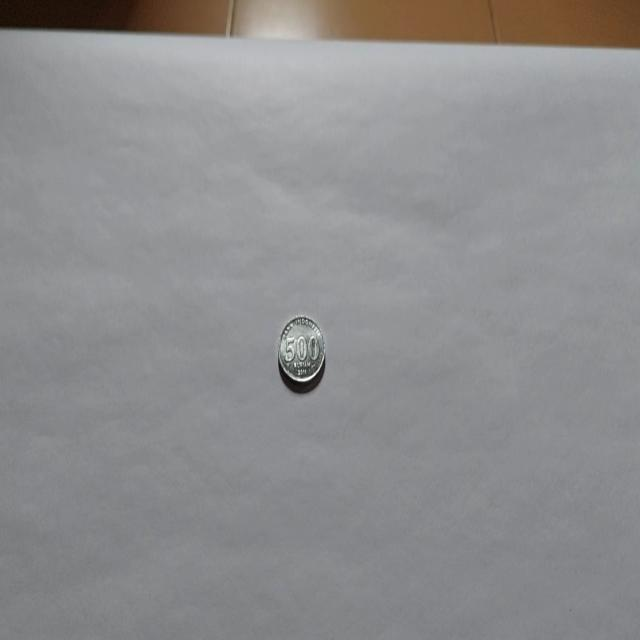lima ratus rupiah: (276, 313, 326, 392)
